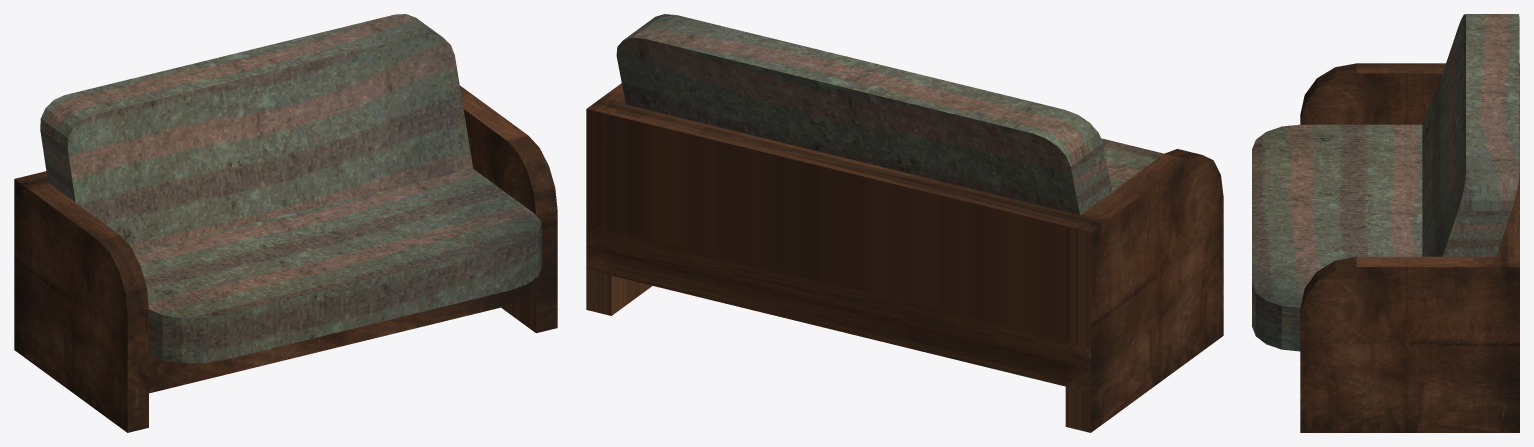
The model's file is sofa.glb.
3 renders of one model, left to right at view 1: azimuth 30°, elevation 25°; view 2: azimuth 150°, elevation 25°; view 3: azimuth 270°, elevation 25°, orthographic. The views are drawn at different scales.
Visible parts, largest first — view 1: env_sofa-col; view 2: env_sofa-col; view 3: env_sofa-col.
Boxes of the visible parts, bbox=[...] form: env_sofa-col: bbox=[14, 14, 557, 432]; env_sofa-col: bbox=[586, 14, 1223, 432]; env_sofa-col: bbox=[1252, 14, 1519, 432].
Size of the model in its own units: 3.4 by 1.84 by 1.89.
2 materials, 2 textured.
